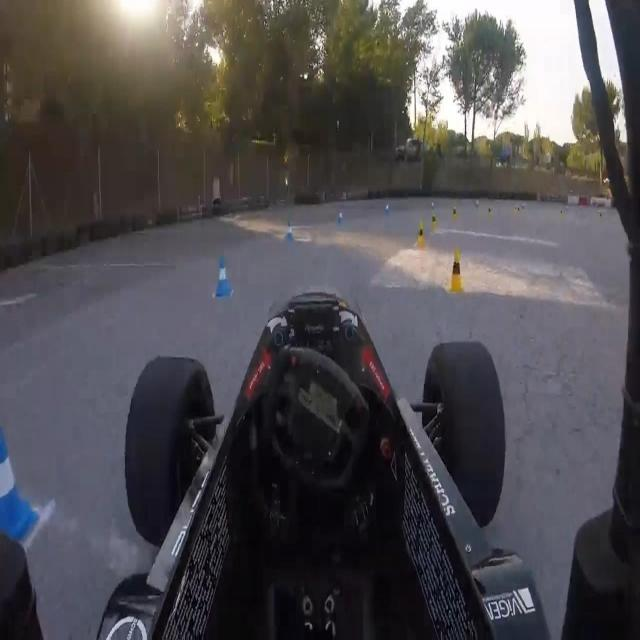blue_cone: (216, 254, 234, 297), (286, 221, 294, 241), (338, 210, 344, 226)
yellow_cone: (449, 248, 464, 294), (415, 221, 427, 251), (432, 212, 440, 232)
